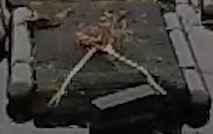bag: (10, 2, 210, 125)
